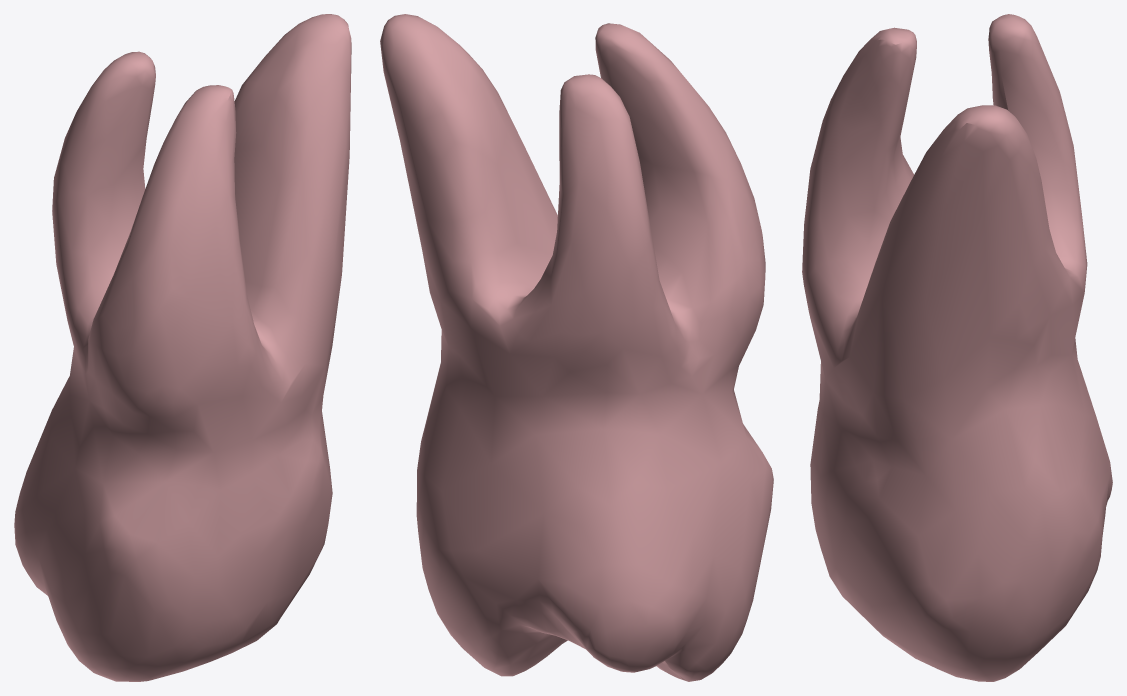
The model's file is fma55697_mm828m.glb.
3 renders of one model, left to right at view 1: azimuth 30°, elevation 25°; view 2: azimuth 150°, elevation 25°; view 3: azimuth 270°, elevation 25°, orthographic. The views are drawn at different scales.
Visible parts, largest first — view 1: FMA55697_MM828M; view 2: FMA55697_MM828M; view 3: FMA55697_MM828M.
Boxes of the visible parts, x1=… form: FMA55697_MM828M: x1=14, y1=14, x2=351, y2=681; FMA55697_MM828M: x1=380, y1=14, x2=773, y2=681; FMA55697_MM828M: x1=802, y1=14, x2=1112, y2=681.
Bounding box in the file's own units: 0.0108 × 0.0197 × 0.00892.
